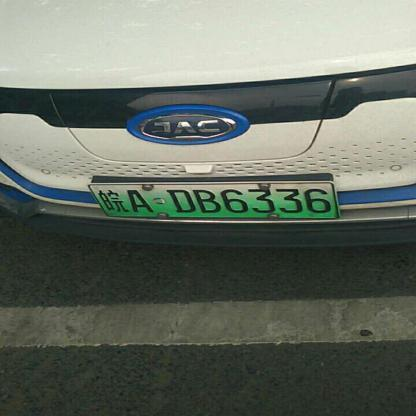lp: (90, 182, 338, 216)
